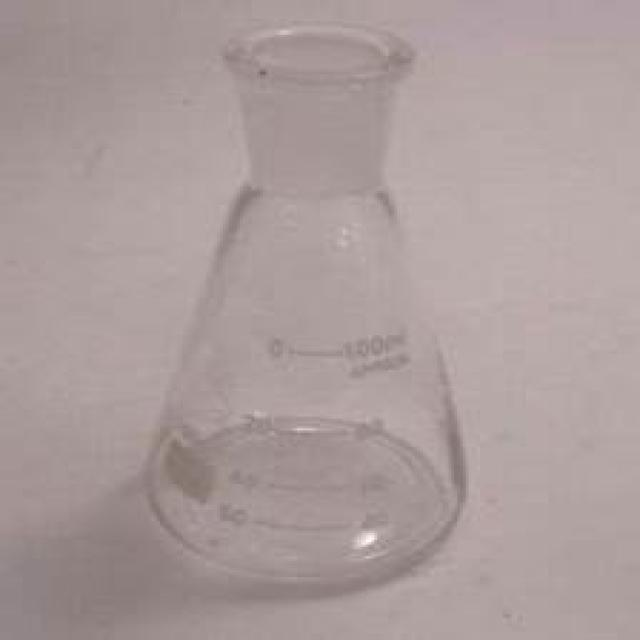Titrarion: (148, 34, 485, 573)
